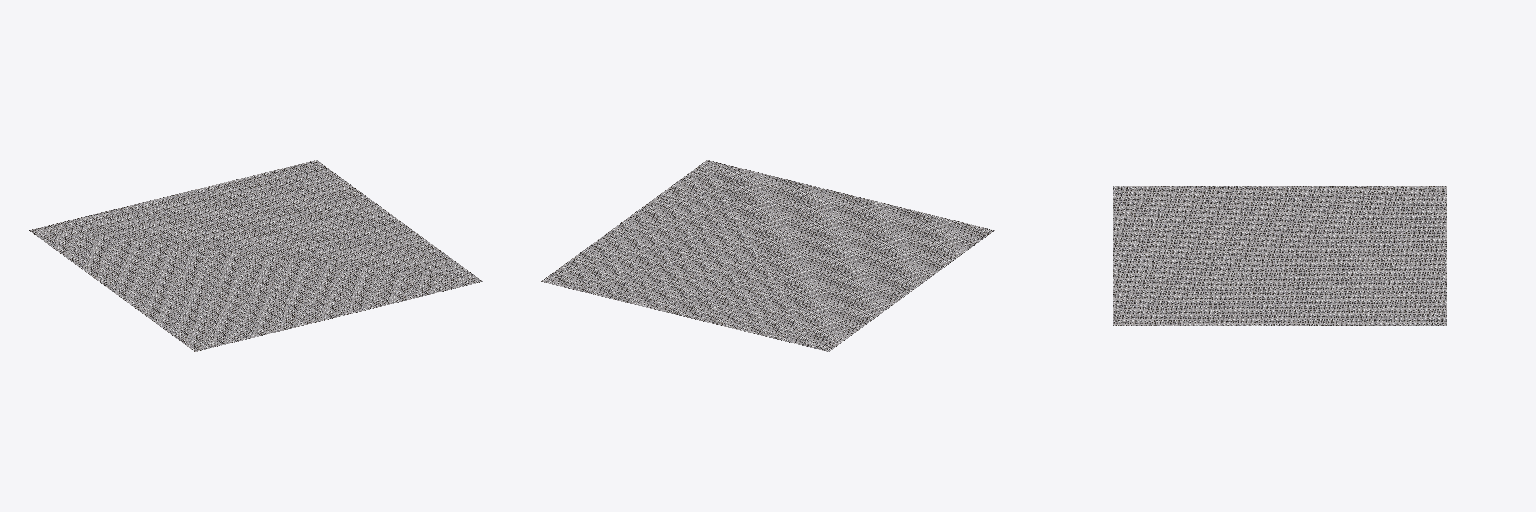
3 renders of one model, left to right at view 1: azimuth 30°, elevation 25°; view 2: azimuth 150°, elevation 25°; view 3: azimuth 270°, elevation 25°, orthographic.
Parts seen in each view (by area): view 1: Plane; view 2: Plane; view 3: Plane.
Boxes of the visible parts, x1=… form: Plane: x1=29, y1=160, x2=482, y2=351; Plane: x1=541, y1=160, x2=994, y2=351; Plane: x1=1113, y1=186, x2=1446, y2=325.
Size of the model in its own units: 100 by 0 by 100.
Materials: 1 (1 with a texture image).